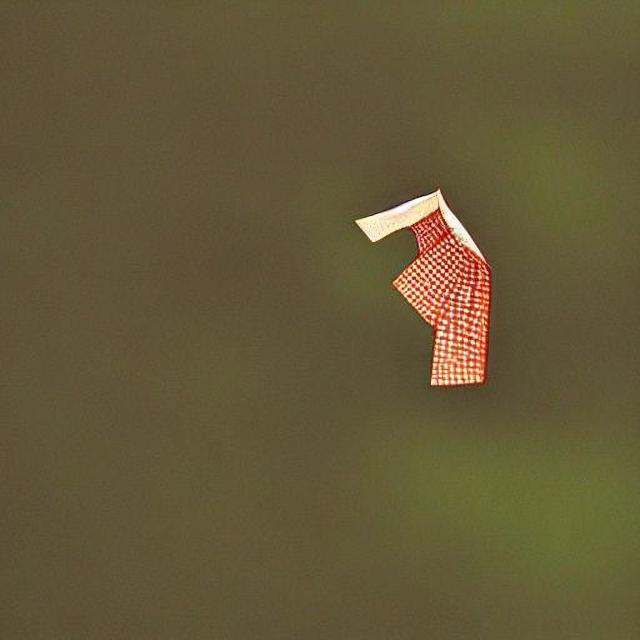floating object: (356, 192, 492, 384)
